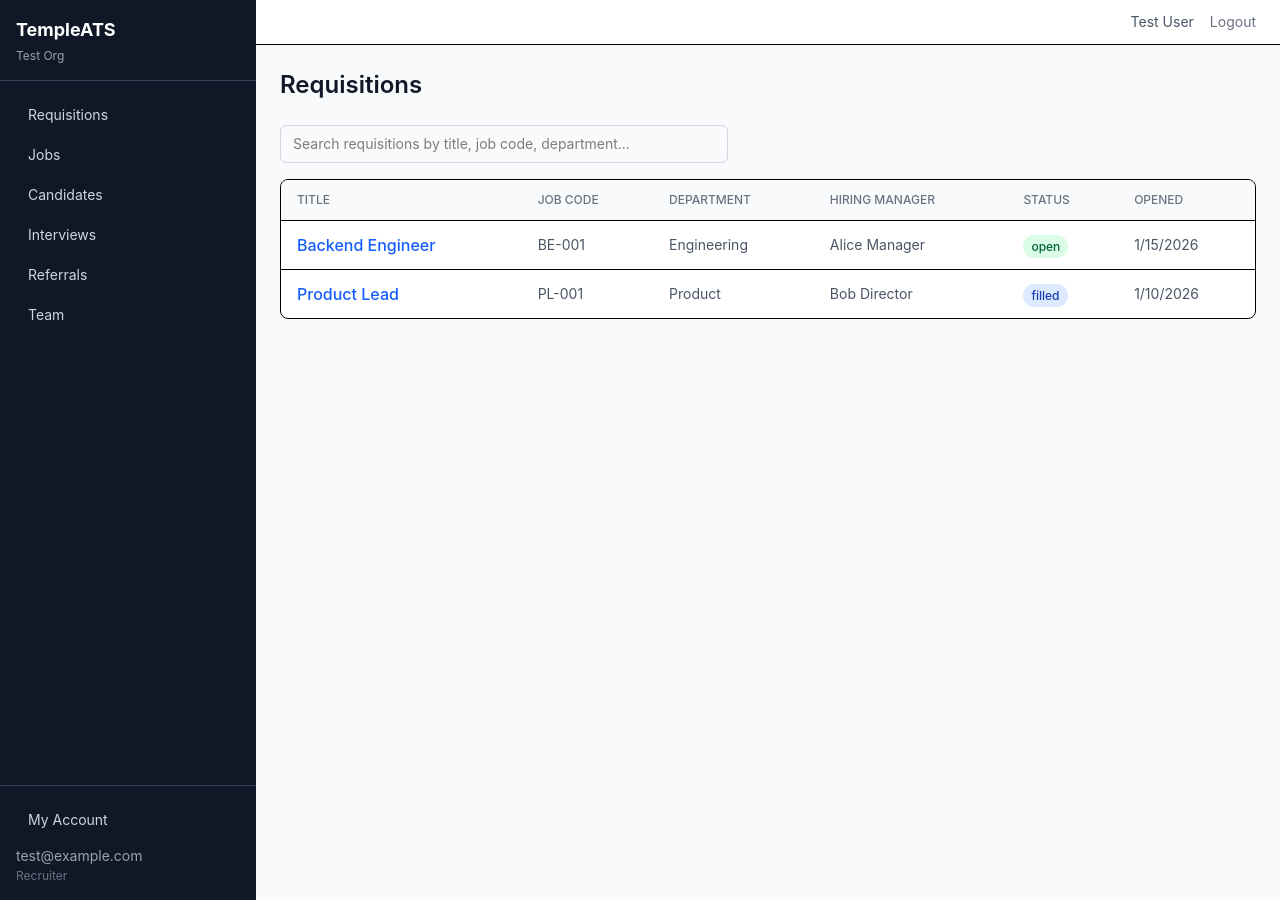
Test case: Reqs page › shows search empty state when search has no results
Expected: the link "Backend Engineer" is shown, [297,235,435,255]
Step 1. Type "nonexistent" into the field with placeholder "Search requisitions by title, job code, department..." → (504,144), box [280,125,728,163]
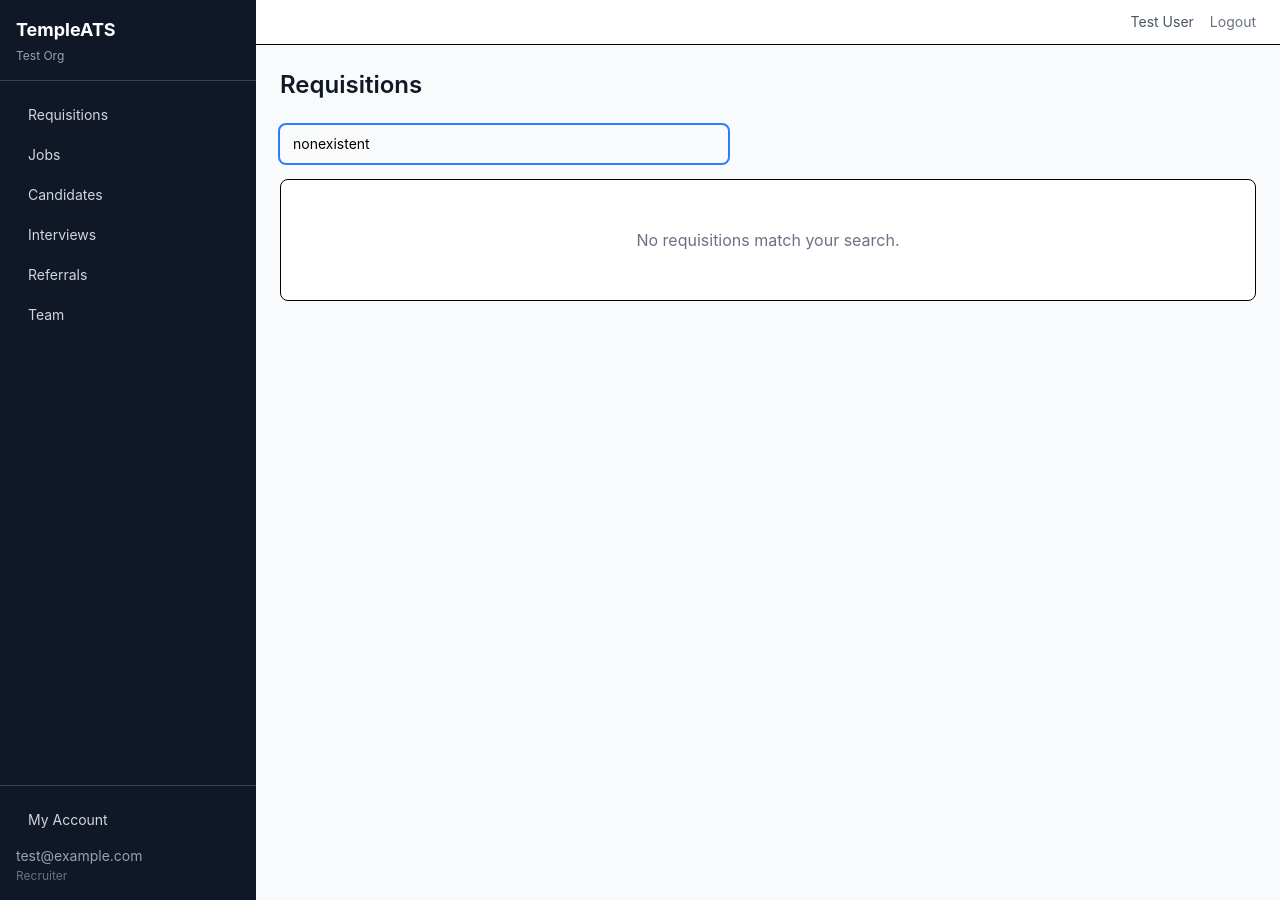
Expected: the text "No requisitions match your search." is shown, [636,230,900,250]
